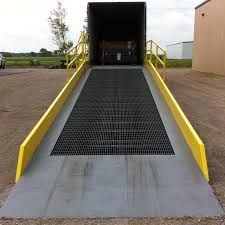Yard Ramp: (1, 42, 225, 217)
